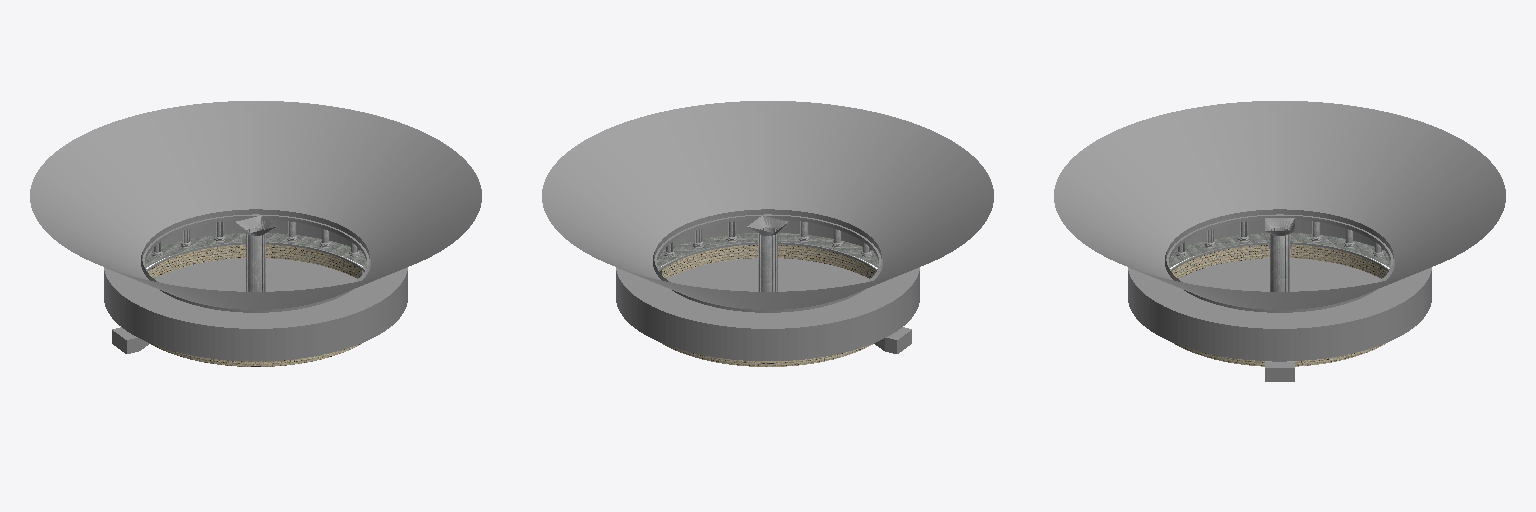
3 views of the same model, side by side, from view 1: azimuth 30°, elevation 25°; view 2: azimuth 150°, elevation 25°; view 3: azimuth 270°, elevation 25° (orthographic).
Parts seen in each view (by area): view 1: Arena.005_Circle.054, Arena.002_Circle.051, Arena.003_Circle.052, Floor_Circle.045, Arena_Wall_Circle.046, Arena.004_Circle.053, Arena.001_Circle.050, Circle.001_Circle.042, Arena_Circle; view 2: Arena.005_Circle.054, Arena.002_Circle.051, Arena.003_Circle.052, Floor_Circle.045, Arena_Wall_Circle.046, Arena.004_Circle.053, Arena.001_Circle.050, Circle.001_Circle.042, Arena_Circle; view 3: Arena.005_Circle.054, Arena.002_Circle.051, Arena.003_Circle.052, Floor_Circle.045, Arena_Wall_Circle.046, Arena.004_Circle.053, Arena.001_Circle.050, Circle.001_Circle.042, Arena_Circle.
Part boxes in pixels (x1,y1,x2,y2): Arena.005_Circle.054: (30, 101, 481, 309); Arena.002_Circle.051: (104, 220, 407, 360); Arena.003_Circle.052: (104, 267, 407, 328); Floor_Circle.045: (155, 258, 356, 291); Arena_Wall_Circle.046: (148, 245, 361, 366); Arena.004_Circle.053: (141, 209, 370, 312); Arena.001_Circle.050: (145, 233, 366, 268); Circle.001_Circle.042: (246, 227, 265, 291); Arena_Circle: (112, 267, 365, 353); Arena.005_Circle.054: (542, 101, 993, 309); Arena.002_Circle.051: (616, 220, 919, 360); Arena.003_Circle.052: (616, 267, 919, 328); Floor_Circle.045: (667, 258, 868, 291); Arena_Wall_Circle.046: (662, 245, 875, 366); Arena.004_Circle.053: (653, 209, 882, 312); Arena.001_Circle.050: (657, 233, 878, 268); Circle.001_Circle.042: (758, 227, 777, 291); Arena_Circle: (658, 267, 911, 353); Arena.005_Circle.054: (1054, 101, 1505, 309); Arena.002_Circle.051: (1128, 220, 1431, 360); Arena.003_Circle.052: (1128, 267, 1431, 328); Floor_Circle.045: (1179, 258, 1380, 291); Arena_Wall_Circle.046: (1172, 245, 1387, 366); Arena.004_Circle.053: (1165, 209, 1394, 312); Arena.001_Circle.050: (1169, 233, 1390, 268); Circle.001_Circle.042: (1270, 227, 1289, 291); Arena_Circle: (1265, 245, 1294, 381).
Size of the model in its own units: 25.25 by 7.36 by 25.26.
Materials: 14 (4 with a texture image).